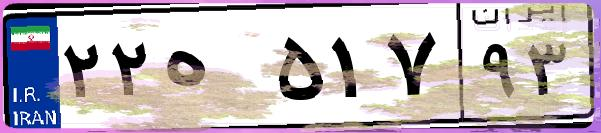1: (330, 28, 385, 110)
2: (57, 26, 110, 100), (110, 28, 158, 98)
3: (525, 38, 570, 115)
5: (270, 28, 330, 110)
7: (385, 28, 445, 110)
9: (475, 38, 525, 113)
ه: (158, 20, 270, 120)
